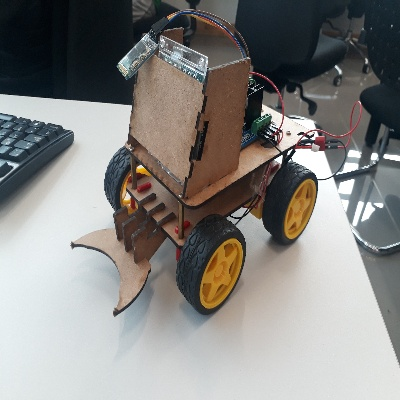Robot: (69, 23, 317, 316)
